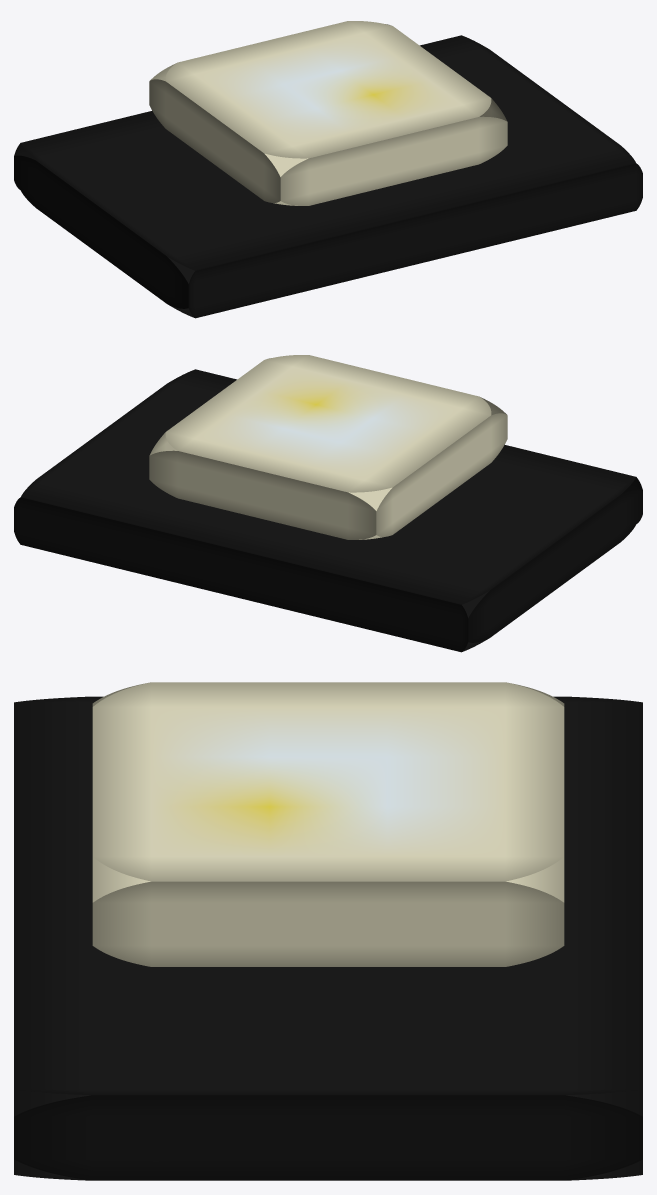
Rendered from neopixel_strip_1.obj.
The picture shows the model from 3 angles, top to bottom: view 1: azimuth 30°, elevation 25°; view 2: azimuth 150°, elevation 25°; view 3: azimuth 270°, elevation 25°; orthographic projection. The views are drawn at different scales.
Parts seen in each view (by area): view 1: base, neopixel_0; view 2: base, neopixel_0; view 3: base, neopixel_0.
Boxes of the visible parts, x1,y1,x2,y2 form: base: (14,35,642,318); neopixel_0: (149,21,507,205); base: (14,369,642,652); neopixel_0: (149,355,507,539); base: (14,696,642,1180); neopixel_0: (92,682,564,966).
Size of the model in its own units: 0.1875 by 0.0438 by 0.125.
Materials: 1 (1 with a texture image).
